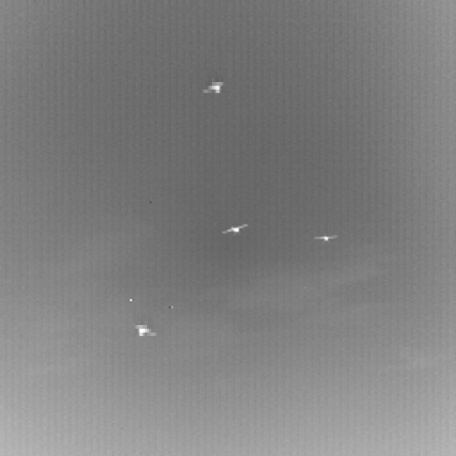plane: (197, 67, 227, 97), (132, 310, 162, 340), (217, 219, 245, 235), (311, 228, 336, 241)
